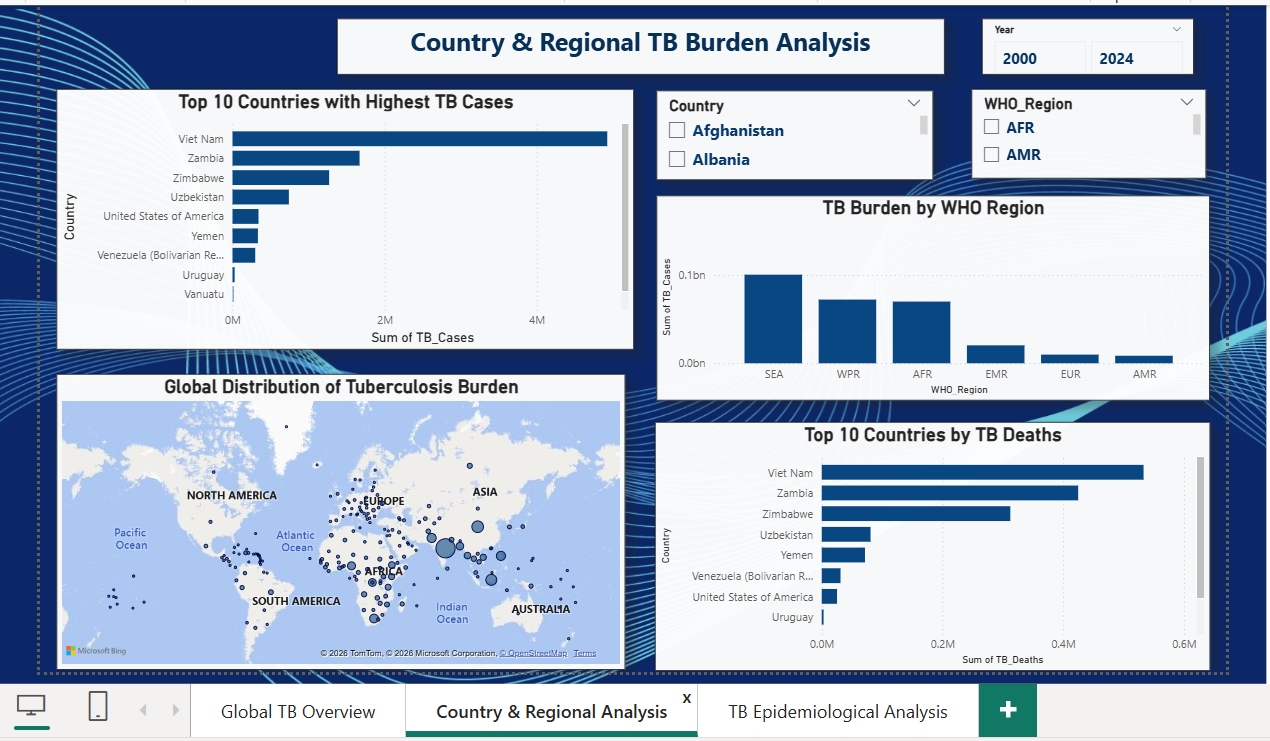

What the dashboard file says about the page in this screenshot:
{"tool":"powerbi","page":{"name":"Country & Regional Analysis","canvas":[1280,720],"ordinal":1},"visuals":[{"type":"clusteredBarChart","title":"Top 10 Countries with Highest TB Cases","fields":{"Category":["TB_Clean_Dataset.Country"],"Y":["Sum(TB_Clean_Dataset.TB_Cases)"]},"box":[17,90.7,623.6,281.6],"z":0},{"type":"textbox","box":[321.3,15.1,655.8,60.5],"z":1000},{"type":"clusteredBarChart","title":"Top 10 Countries by TB Deaths","fields":{"Category":["TB_Clean_Dataset.Country"],"Y":["Sum(TB_Clean_Dataset.TB_Deaths)"]},"box":[663.3,449.8,599.1,268.3],"z":2000},{"type":"clusteredColumnChart","title":"TB Burden by WHO Region","fields":{"Category":["TB_Clean_Dataset.WHO_Region"],"Y":["Sum(TB_Clean_Dataset.TB_Cases)"]},"box":[665.2,206,597.2,221.1],"z":3000},{"type":"map","title":"Global Distribution of Tuberculosis Burden","fields":{"Category":["TB_Clean_Dataset.Country"],"Size":["Sum(TB_Clean_Dataset.TB_Cases)"]},"box":[17,398.7,614.2,319.4],"z":4000},{"type":"slicer","fields":{"Values":["TB_Clean_Dataset.Year"]},"box":[1016.7,15.1,228.7,60.5],"z":5000},{"type":"slicer","fields":{"Values":["TB_Clean_Dataset.Country"]},"box":[665.2,92.6,298.6,96.4],"z":6000},{"type":"slicer","fields":{"Values":["TB_Clean_Dataset.WHO_Region"]},"box":[1005.4,90.7,253.2,96.4],"z":7000}]}

Visuals, with their boxes on the page's 1280x720 design canvas (x1, y1, x2, y2). These are canvas units, not pixel positions in the 1270x741 screenshot, which may show the page scaled, cropped or inside an application window:
"Top 10 Countries with Highest TB Cases" clusteredBarChart: {"x1": 17, "y1": 91, "x2": 641, "y2": 372}
textbox: {"x1": 321, "y1": 15, "x2": 977, "y2": 76}
"Top 10 Countries by TB Deaths" clusteredBarChart: {"x1": 663, "y1": 450, "x2": 1262, "y2": 718}
"TB Burden by WHO Region" clusteredColumnChart: {"x1": 665, "y1": 206, "x2": 1262, "y2": 427}
"Global Distribution of Tuberculosis Burden" map: {"x1": 17, "y1": 399, "x2": 631, "y2": 718}
slicer - TB_Clean_Dataset.Year: {"x1": 1017, "y1": 15, "x2": 1245, "y2": 76}
slicer - TB_Clean_Dataset.Country: {"x1": 665, "y1": 93, "x2": 964, "y2": 189}
slicer - TB_Clean_Dataset.WHO_Region: {"x1": 1005, "y1": 91, "x2": 1259, "y2": 187}
